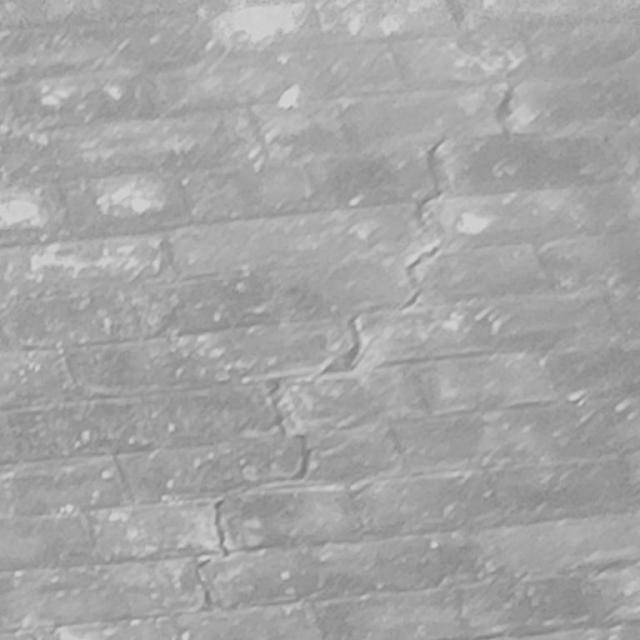crack: (196, 82, 515, 608)
